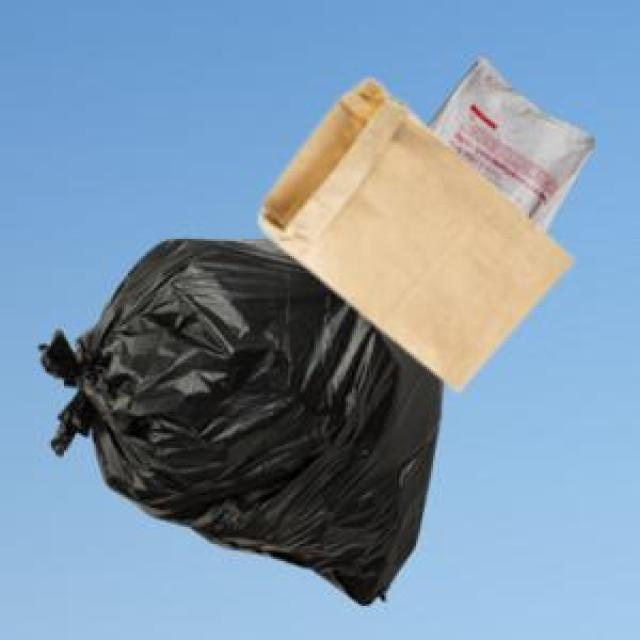miscellaneous trash: (34, 235, 440, 602)
paper: (256, 75, 568, 386)
